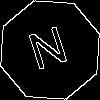N: (25, 25, 74, 80)
